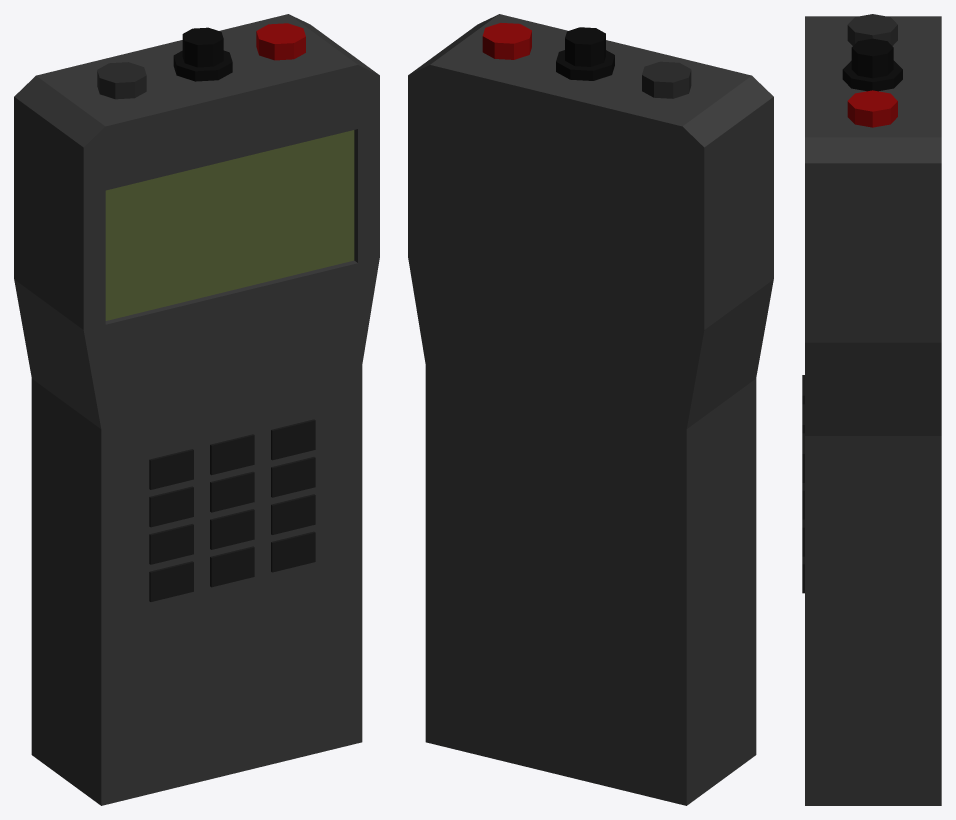
File: Radio_02.fbx
The picture shows the model from 3 angles, left to right: view 1: azimuth 30°, elevation 25°; view 2: azimuth 150°, elevation 25°; view 3: azimuth 270°, elevation 25°; orthographic projection.
Parts seen in each view (by area): view 1: Radio_02; view 2: Radio_02; view 3: Radio_02.
Boxes of the visible parts, x1,y1,x2,y2 form: Radio_02: (14, 14, 379, 805); Radio_02: (408, 14, 773, 805); Radio_02: (802, 14, 941, 805).
Bounding box in the file's own units: 20.87 × 47.89 × 8.65.
